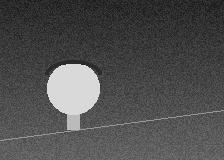no_helmet: (47, 60, 99, 119)
